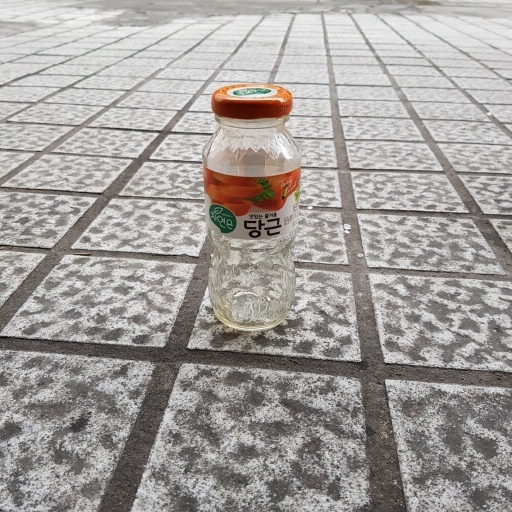Glass_4: (199, 80, 304, 330)
